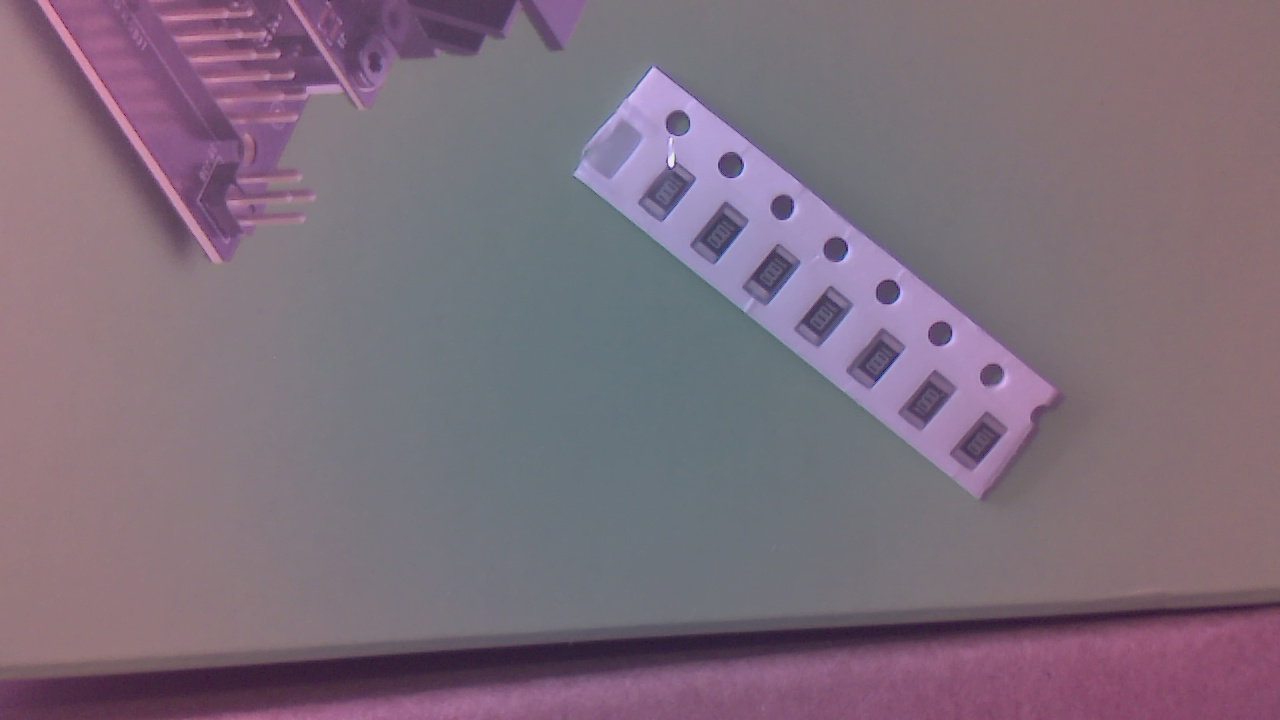Resistor: (747, 250, 811, 313), (696, 206, 757, 271), (800, 290, 860, 355), (645, 165, 705, 229), (955, 415, 1013, 481), (906, 374, 963, 440), (853, 333, 911, 397)
